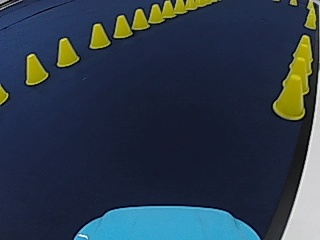cone: (271, 44, 308, 118), (283, 36, 312, 95), (289, 53, 309, 93), (292, 34, 313, 72), (24, 52, 48, 84), (55, 36, 79, 66), (88, 21, 110, 48), (113, 14, 132, 38), (131, 7, 149, 30), (148, 3, 163, 24), (304, 7, 316, 29), (161, 0, 174, 18), (174, 0, 186, 14), (1, 84, 9, 104)
